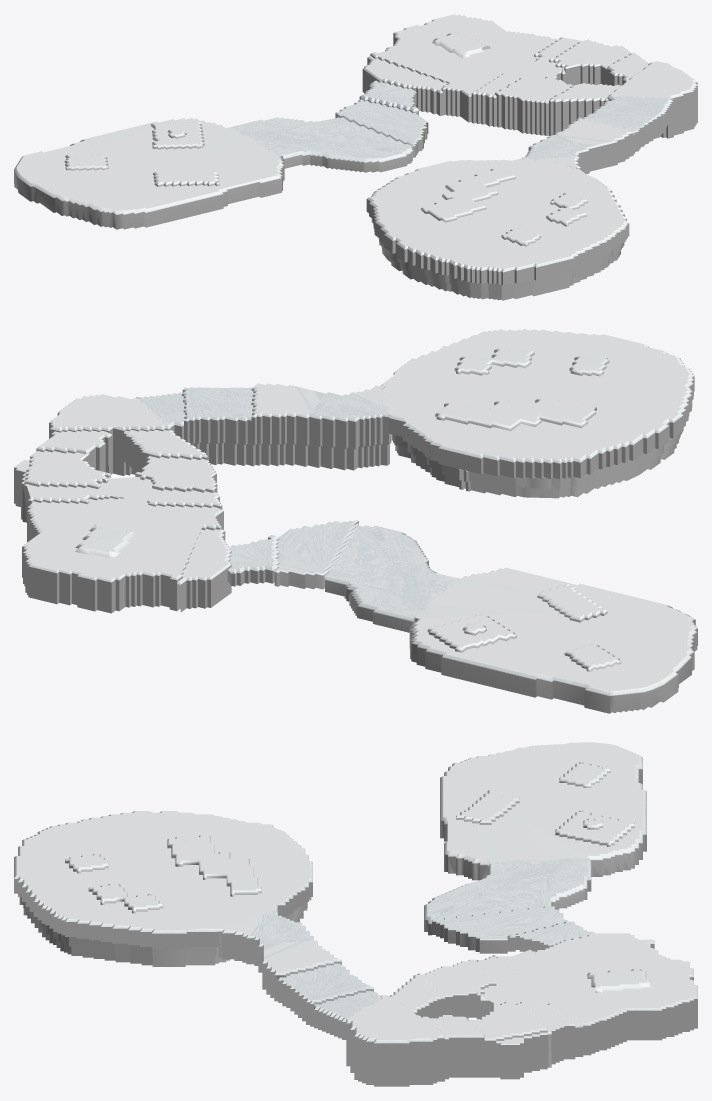
The model's file is main_Island_Object.fbx.
The picture shows the model from 3 angles, top to bottom: view 1: azimuth 30°, elevation 25°; view 2: azimuth 150°, elevation 25°; view 3: azimuth 270°, elevation 25°; orthographic projection. The views are drawn at different scales.
Visible parts, largest first — view 1: Polar_Level; view 2: Polar_Level; view 3: Polar_Level.
Boxes of the visible parts, x1,y1,x2,y2 form: Polar_Level: (14, 14, 697, 300); Polar_Level: (14, 329, 697, 713); Polar_Level: (14, 742, 697, 1086).
Size of the model in its own units: 19431 by 1618 by 17167.
